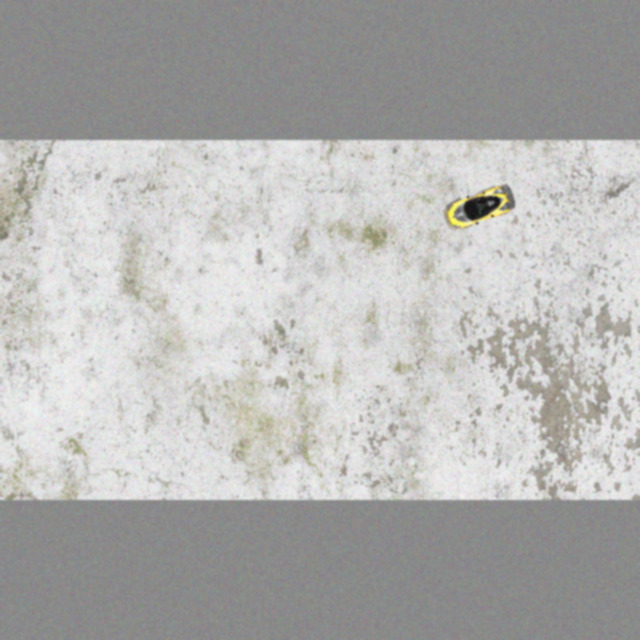car: (442, 179, 519, 233)
